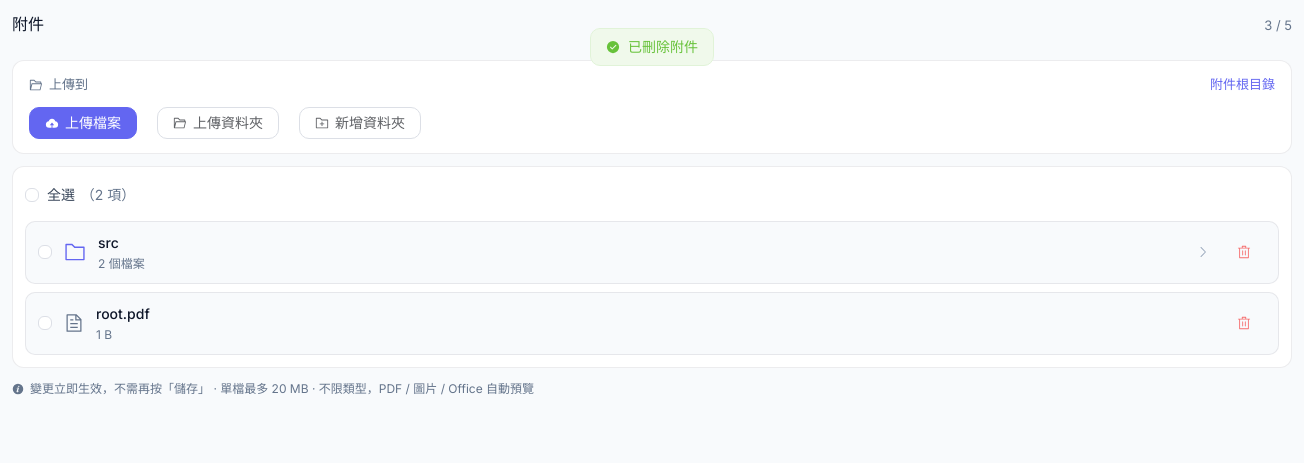
Test case: JobAttachmentsManager.vue › folder-aware uploads › breadcrumb root link jumps back without losing state
Click the list item with test id "manager-folder-src". click: (652, 252)
box: [25, 220, 1279, 284]
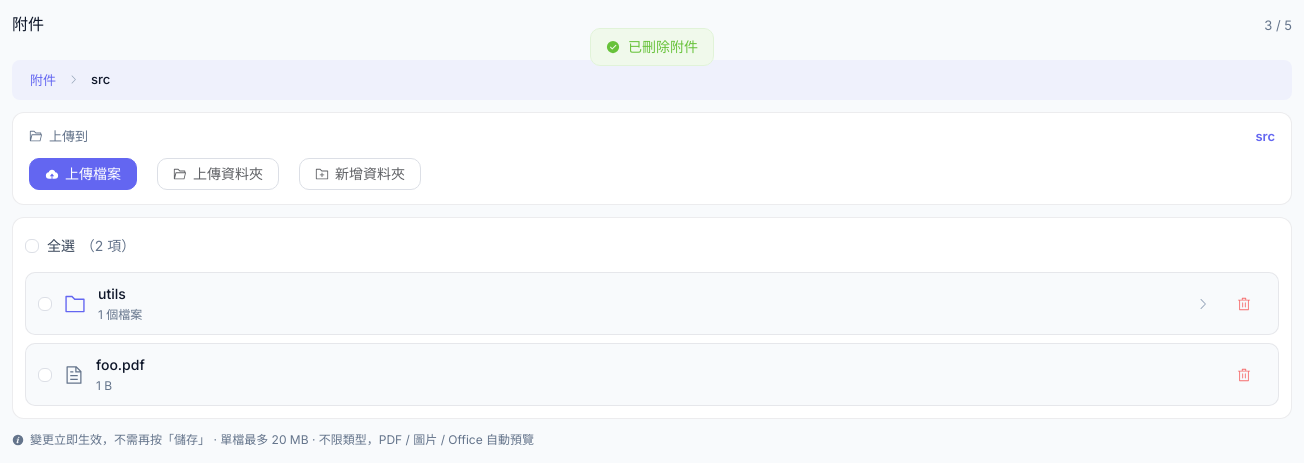
Expected: the list item with test id "attachment-row-2" is shown, [25, 343, 1279, 406]
Click the button with test id "manager-breadcrumb-0". click: (43, 80)
box: [24, 68, 62, 91]
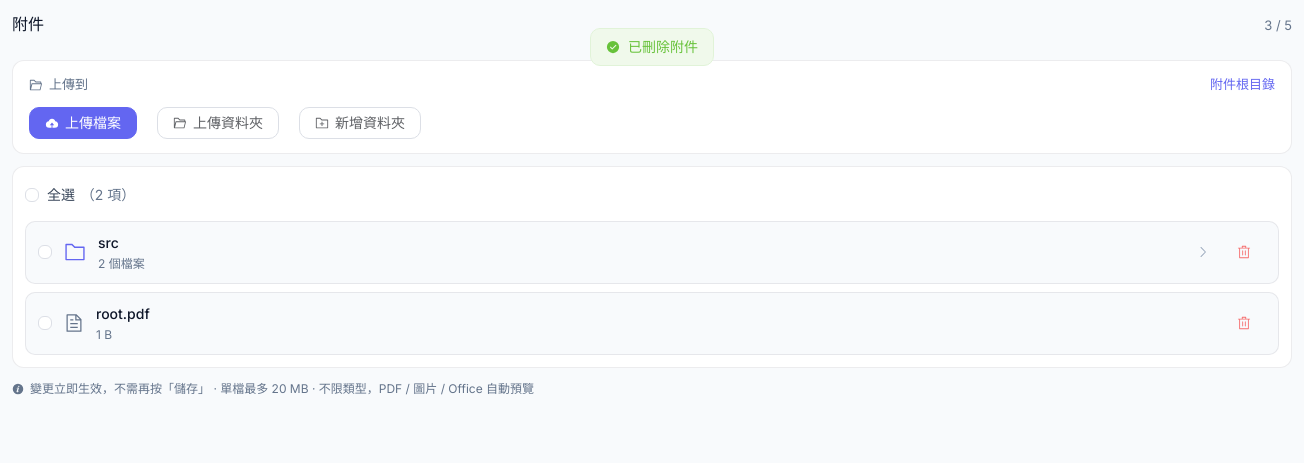
Expected: the list item with test id "attachment-row-1" is shown, [25, 292, 1279, 354]
Expected: the list item with test id "manager-folder-src" is shown, [25, 220, 1279, 284]
